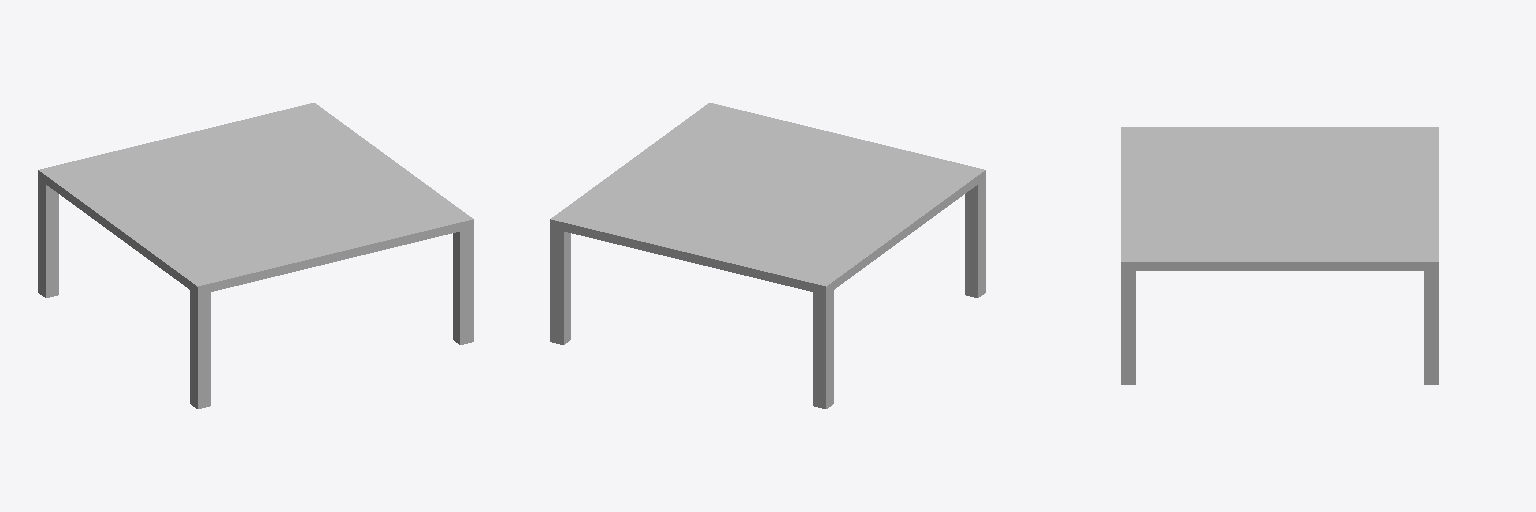
Rendered from Table.obj.
3 renders of one model, left to right at view 1: azimuth 30°, elevation 25°; view 2: azimuth 150°, elevation 25°; view 3: azimuth 270°, elevation 25°, orthographic.
Visible parts, largest first — view 1: pCube1; view 2: pCube1; view 3: pCube1.
Part boxes in pixels (left/top/right/bottom): pCube1: left=38, top=103, right=473, bottom=408; pCube1: left=550, top=103, right=985, bottom=408; pCube1: left=1121, top=127, right=1438, bottom=384.
Bounding box in the file's own units: 11.04 × 4.69 × 11.04.